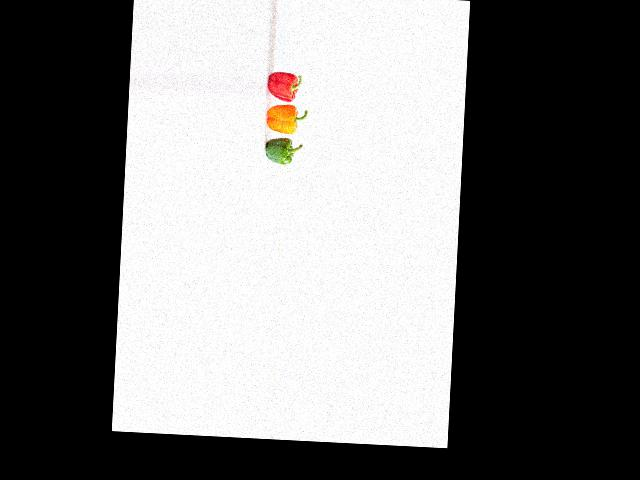bell_pepper: (267, 69, 309, 103)
